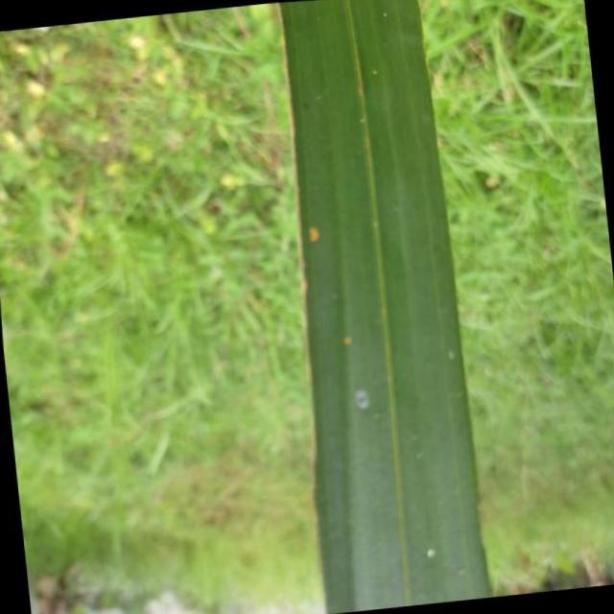Kalium: (284, 0, 495, 614)
